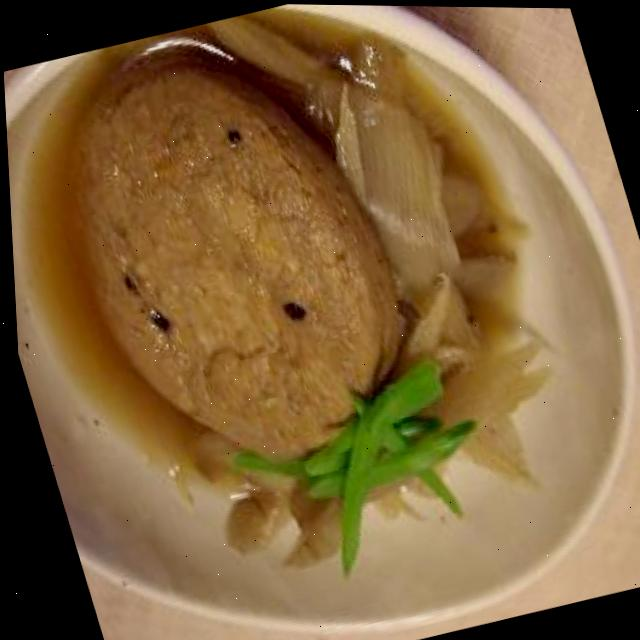熟制海鲜: (20, 41, 472, 556)
